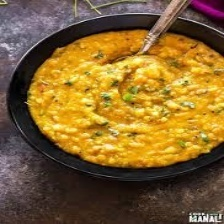dal: (27, 31, 224, 169)
